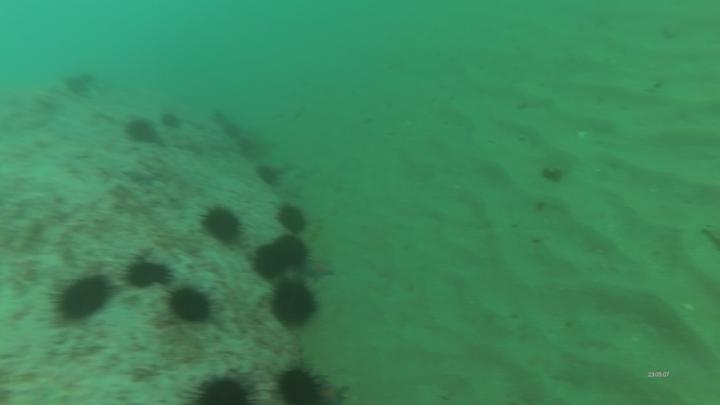echinus: (58, 278, 109, 320), (274, 281, 318, 327), (203, 205, 242, 247), (172, 289, 213, 324), (278, 372, 320, 405), (253, 248, 287, 282), (200, 382, 248, 405), (131, 262, 167, 288), (275, 239, 307, 265), (123, 119, 154, 142), (279, 207, 305, 232), (257, 164, 279, 185), (64, 76, 85, 96), (164, 114, 177, 128)
starfish: (303, 261, 335, 279)
